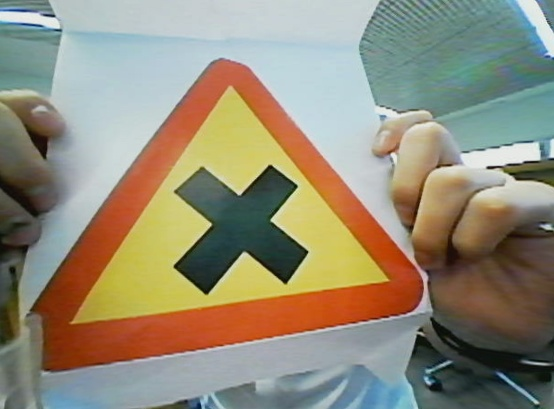junction: (13, 41, 428, 371)
